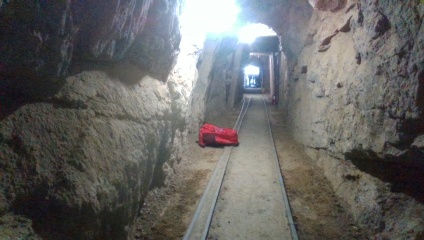backpack: (196, 123, 240, 148)
